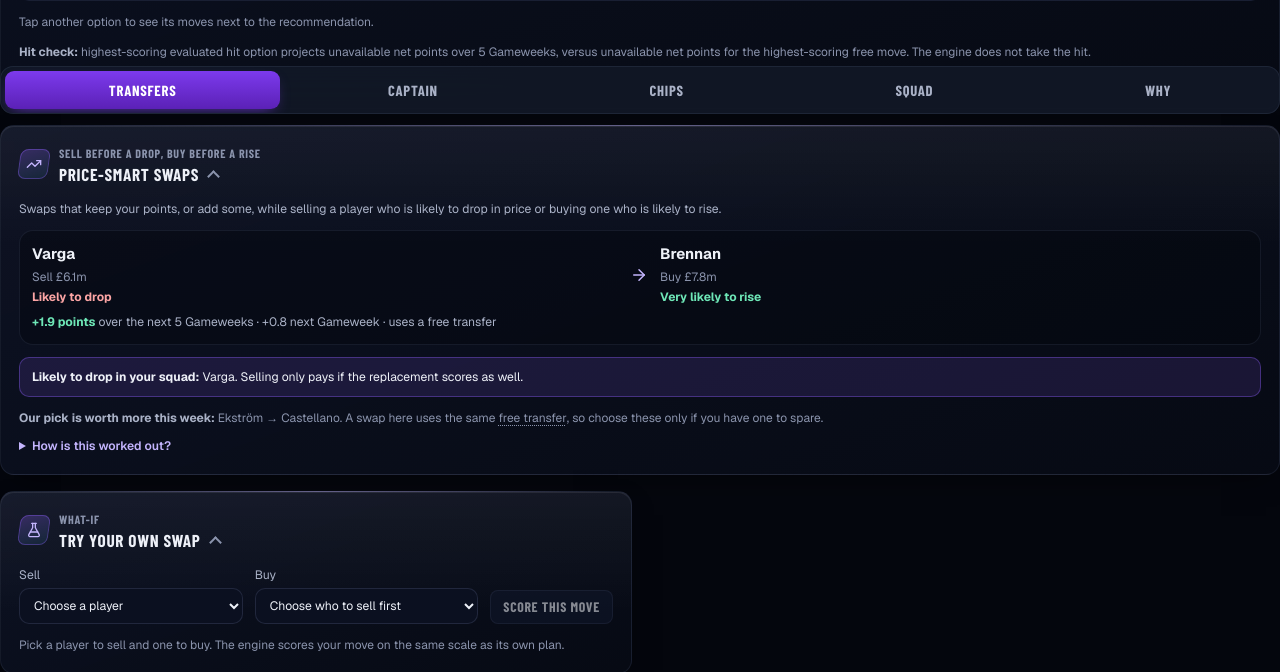
it: a manager can score their own transfer from the plan page
(page scrolled)
Select "Ekström · MID · £6.4m" in the dropdown labelled "Sell": (131, 606) x1=19 y1=588 x2=243 y2=624
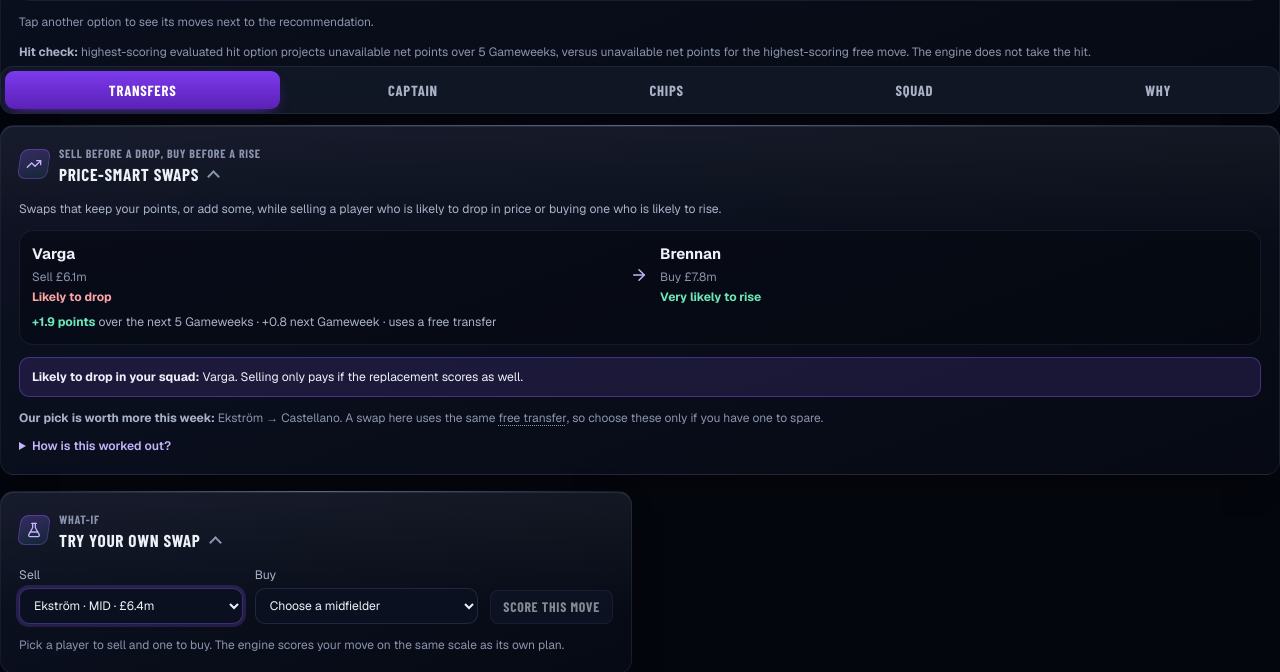
Select "Nakamura · ARS · £10.0m · 6.9 xP · over budget" in the dropdown labelled "Buy": (367, 606) x1=255 y1=588 x2=478 y2=624
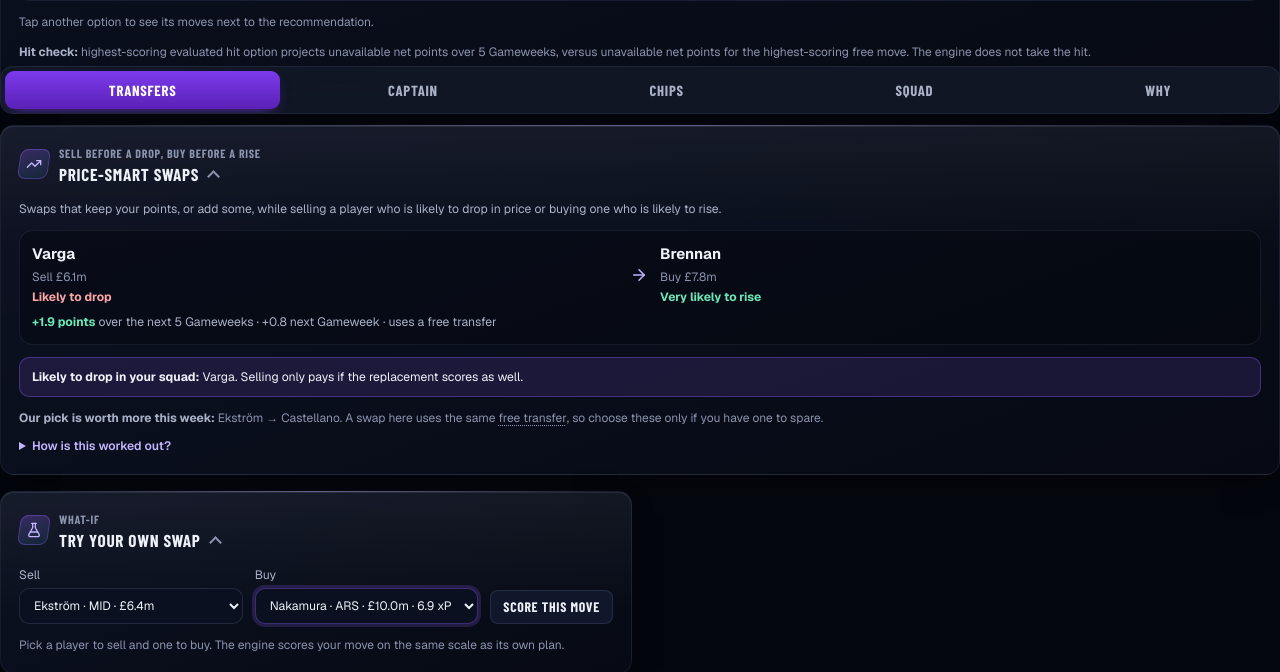
Click the button "Score this move": (552, 607) x1=490 y1=590 x2=613 y2=624
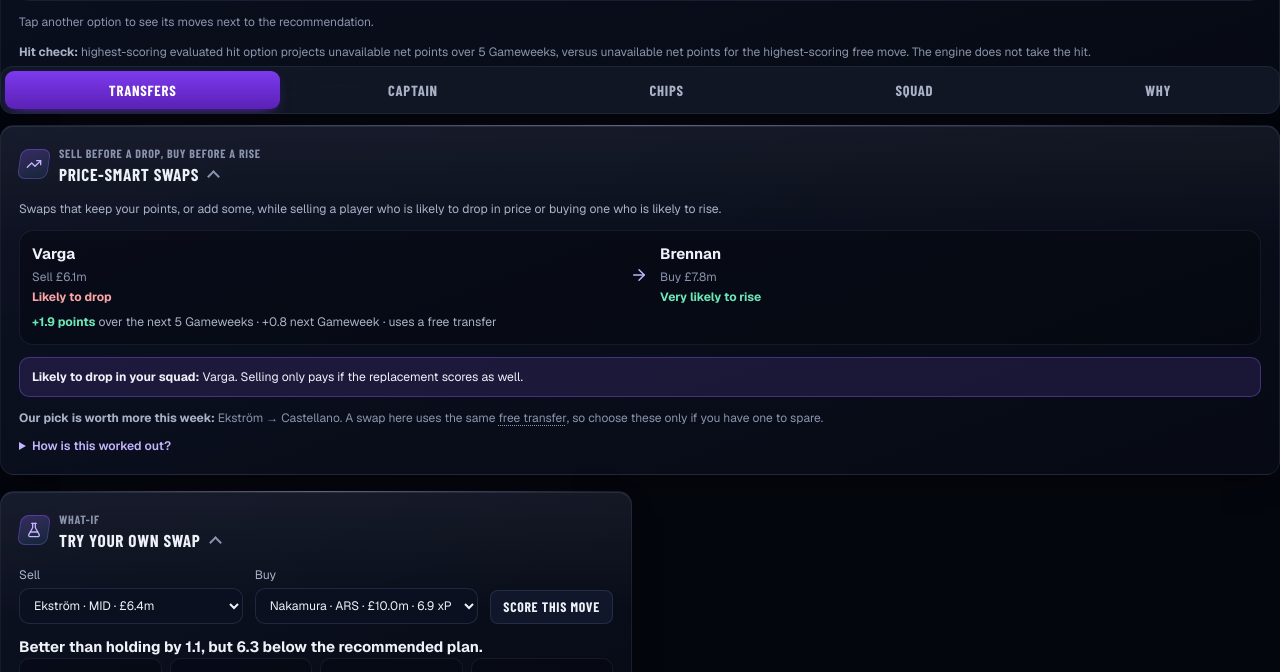
expect the text "Better than holding by 1.1, but 6.3 below the recommended plan" is shown: met, box x1=19 y1=637 x2=482 y2=656
